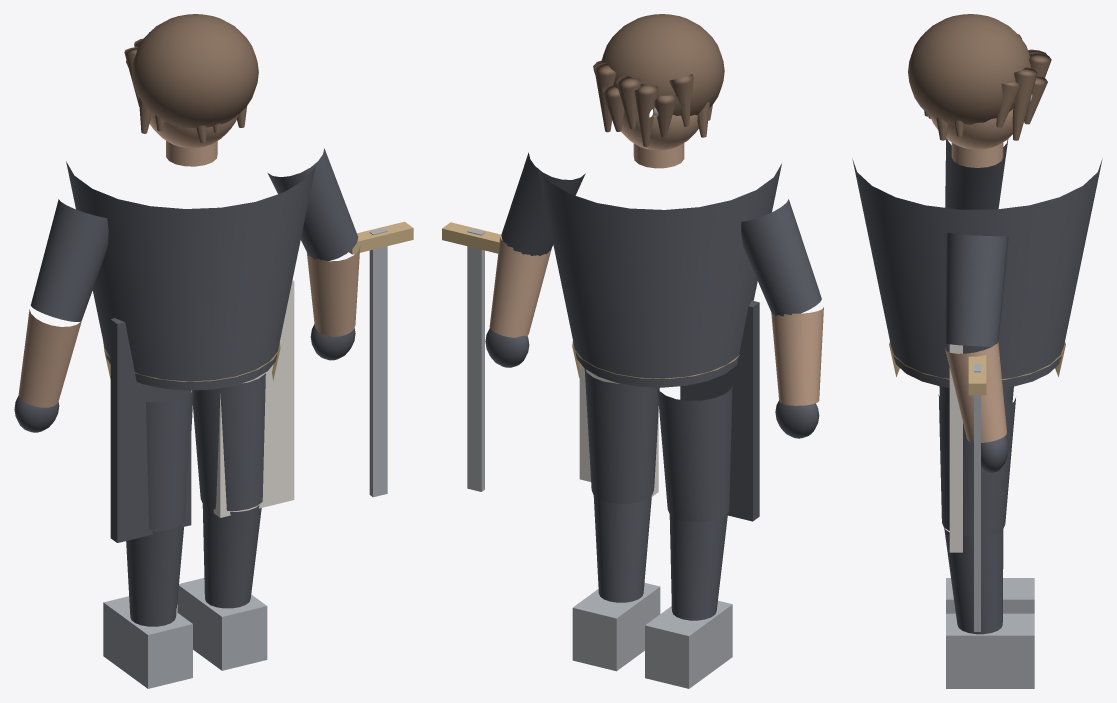
The model's file is list-procedural-v1.glb.
3 renders of one model, left to right at view 1: azimuth 30°, elevation 25°; view 2: azimuth 150°, elevation 25°; view 3: azimuth 270°, elevation 25°, orthographic. The views are drawn at different scales.
Parts seen in each view (by area): view 1: Outfit_Torso, Hair_Cap, Outfit_CoatTail_L, Body_Thigh_R, Body_UpperArm_L, Outfit_CoatTail_R, Outfit_Boot_L, Body_Thigh_L, Outfit_Boot_R, Body_Shin_R, Weapon_SwordBlade, Body_Shin_L (+8 smaller); view 2: Outfit_Torso, Body_Thigh_L, Body_Thigh_R, Hair_Cap, Outfit_CoatTail_L, Body_UpperArm_L, Outfit_Boot_L, Outfit_Boot_R, Body_Shin_R, Body_Shin_L, Weapon_SwordBlade, Body_Forearm_L (+14 smaller); view 3: Outfit_Torso, Hair_Cap, Body_UpperArm_R, Outfit_Boot_R, Body_Thigh_R, Body_Shin_R, Body_Forearm_R, Body_UpperArm_L, Outfit_CoatTail_R, Weapon_SwordBlade, Body_Head, Outfit_Boot_L (+8 smaller).
Boxes of the visible parts, x1,y1,x2,y2 form: Outfit_Torso: (66, 161, 315, 390); Hair_Cap: (131, 14, 258, 128); Outfit_CoatTail_L: (110, 318, 191, 542); Body_Thigh_R: (191, 373, 265, 510); Body_UpperArm_L: (30, 199, 108, 321); Outfit_CoatTail_R: (213, 280, 294, 517); Outfit_Boot_L: (103, 596, 192, 688); Body_Thigh_L: (146, 390, 193, 529); Outfit_Boot_R: (177, 578, 267, 670); Body_Shin_R: (202, 503, 261, 608); Weapon_SwordBlade: (369, 228, 387, 497); Body_Shin_L: (126, 524, 183, 626); Outfit_Torso: (537, 163, 781, 387); Body_Thigh_L: (657, 386, 732, 522); Body_Thigh_R: (584, 369, 659, 503); Hair_Cap: (601, 14, 724, 115); Outfit_CoatTail_L: (680, 300, 759, 521); Body_UpperArm_L: (741, 199, 821, 316); Outfit_Boot_L: (645, 600, 732, 688); Outfit_Boot_R: (572, 583, 660, 671); Body_Shin_R: (593, 495, 651, 602); Body_Shin_L: (669, 514, 727, 620); Weapon_SwordBlade: (467, 229, 484, 491); Body_Forearm_L: (771, 307, 823, 405); Outfit_Torso: (852, 158, 1102, 387); Hair_Cap: (908, 14, 1030, 124); Body_UpperArm_R: (945, 232, 1008, 346); Outfit_Boot_R: (946, 613, 1034, 688); Body_Thigh_R: (938, 395, 1015, 536); Body_Shin_R: (944, 527, 1003, 634); Body_Forearm_R: (945, 342, 1006, 442); Body_UpperArm_L: (945, 138, 1008, 209); Outfit_CoatTail_R: (949, 344, 962, 552); Weapon_SwordBlade: (974, 364, 980, 631); Body_Head: (930, 109, 1013, 149); Outfit_Boot_L: (946, 578, 1034, 613).
Size of the model in its own units: 1.15 by 1.83 by 0.6494.
